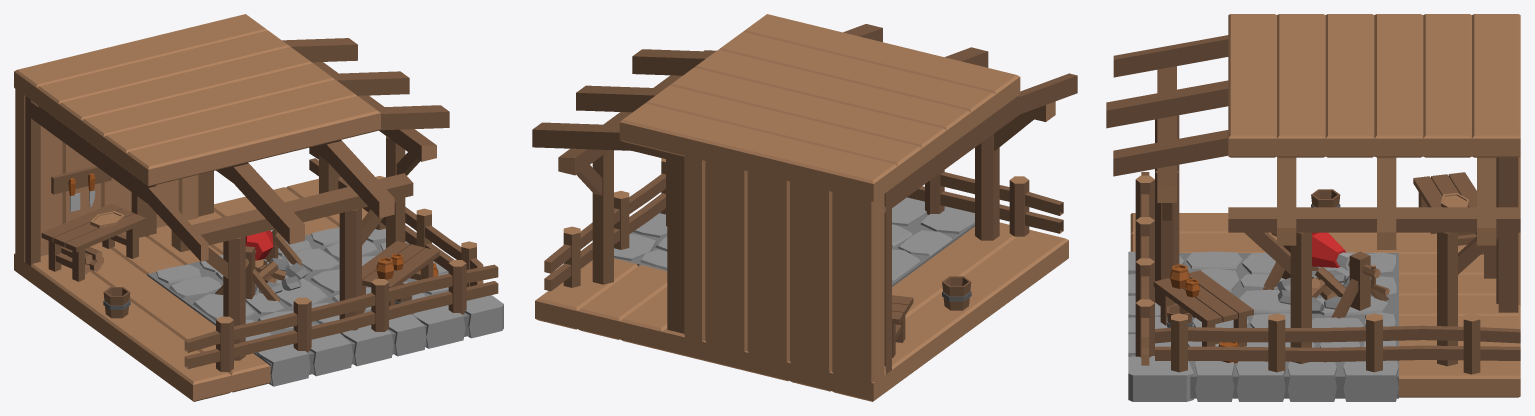
The model's file is Kitchen_Lvl_01_Corner_Right.fbx.
3 views of the same model, side by side, from view 1: azimuth 30°, elevation 25°; view 2: azimuth 150°, elevation 25°; view 3: azimuth 270°, elevation 25° (orthographic). The views are drawn at different scales.
Visible parts, largest first — view 1: Kitchen_Lvl_01_Corner_Right; view 2: Kitchen_Lvl_01_Corner_Right; view 3: Kitchen_Lvl_01_Corner_Right.
Boxes of the visible parts, left/top/right/bottom form: Kitchen_Lvl_01_Corner_Right: left=14, top=14, right=503, bottom=401; Kitchen_Lvl_01_Corner_Right: left=532, top=14, right=1077, bottom=401; Kitchen_Lvl_01_Corner_Right: left=1106, top=14, right=1520, bottom=401.
Size of the model in its own units: 8.5 by 5.05 by 8.5.
